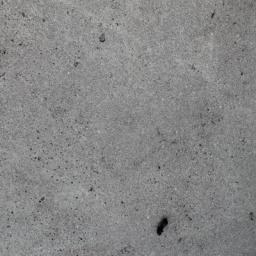FOD: (153, 216, 173, 240)
